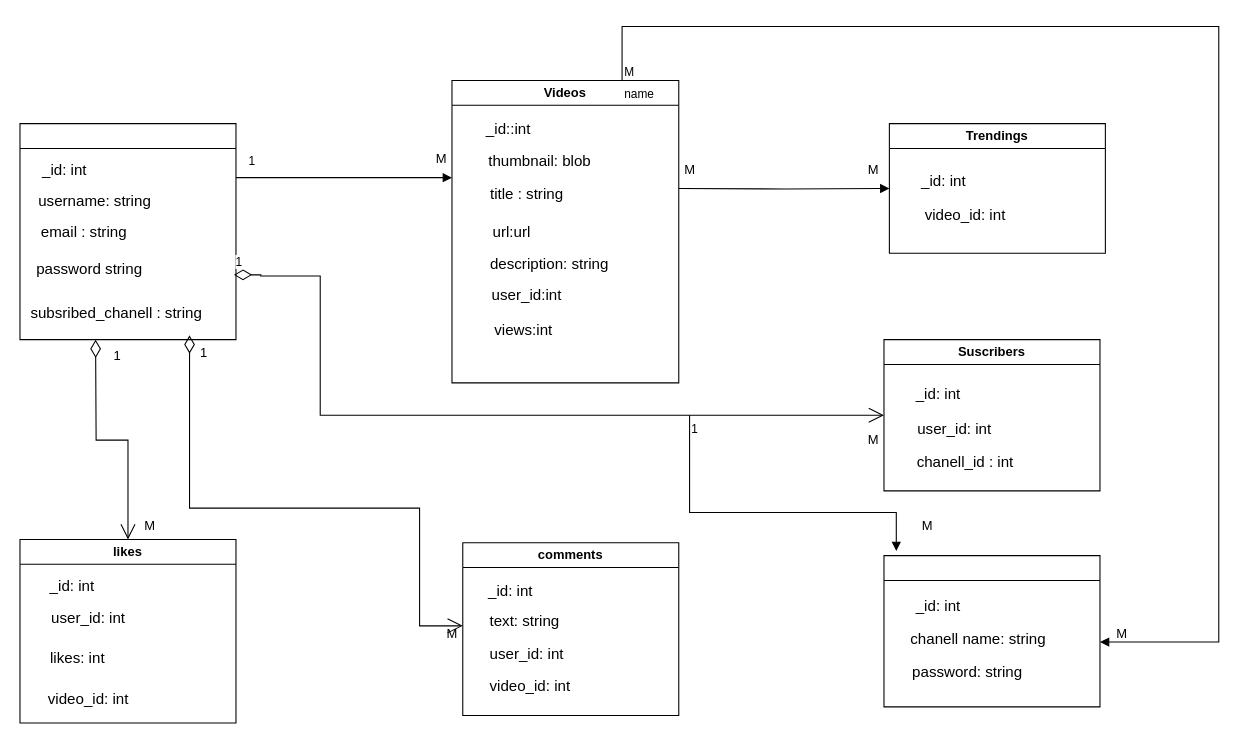
Some shapes in this 1246 by 742 pixel diagram are drawn without their labels. The shapes that lost their labels are listed below. From the top down, each one's box as (x1, y1, x2, y2) in pixels, then its label:
(19, 123, 236, 340): Users
(883, 555, 1100, 707): chanells
